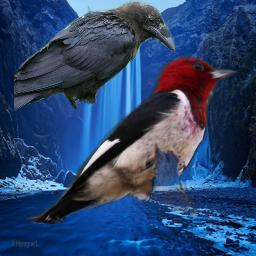Crow: (14, 0, 176, 112)
Woodpecker: (23, 54, 245, 224)
